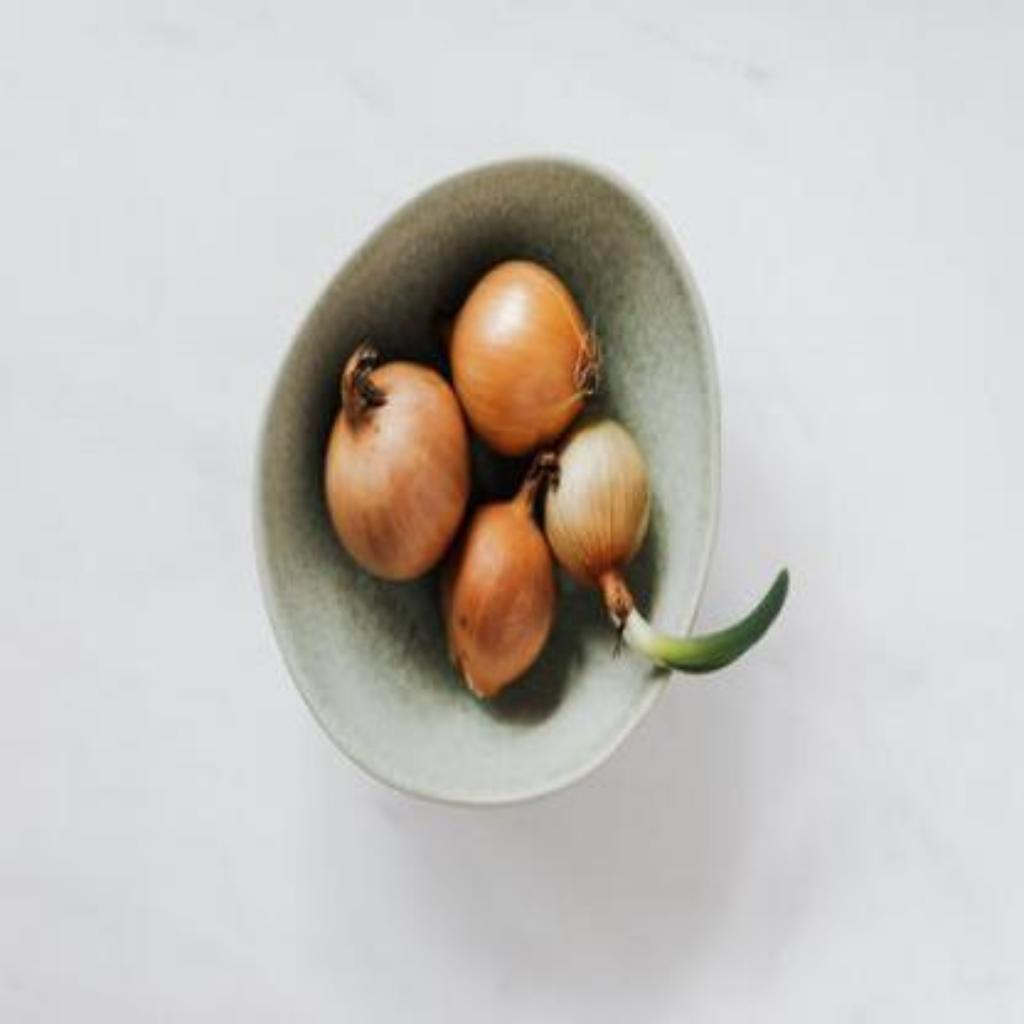Onion: (325, 342, 468, 582), (450, 261, 598, 457), (443, 453, 556, 699), (546, 421, 652, 629)
